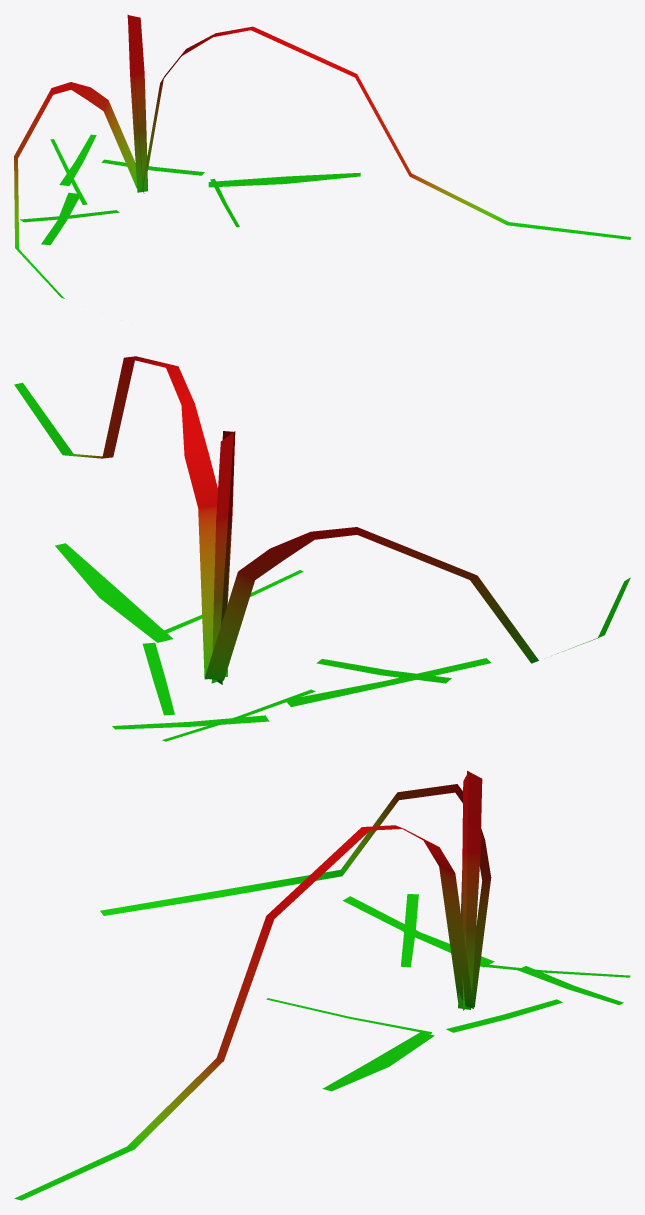
File: Sea Wheatgrass_LOD2_Var20_ui2oagjia.fbx
3 views of the same model, one above another, from view 1: azimuth 30°, elevation 25°; view 2: azimuth 150°, elevation 25°; view 3: azimuth 270°, elevation 25° (orthographic). The views are drawn at different scales.
Visible parts, largest first — view 1: _nt5k_Var20_LOD2; view 2: _nt5k_Var20_LOD2; view 3: _nt5k_Var20_LOD2.
Boxes of the visible parts, x1,y1,x2,y2 form: _nt5k_Var20_LOD2: (14,14,630,298); _nt5k_Var20_LOD2: (14,356,630,741); _nt5k_Var20_LOD2: (14,771,630,1200).
Size of the model in its own units: 29.89 by 10.44 by 25.3.
